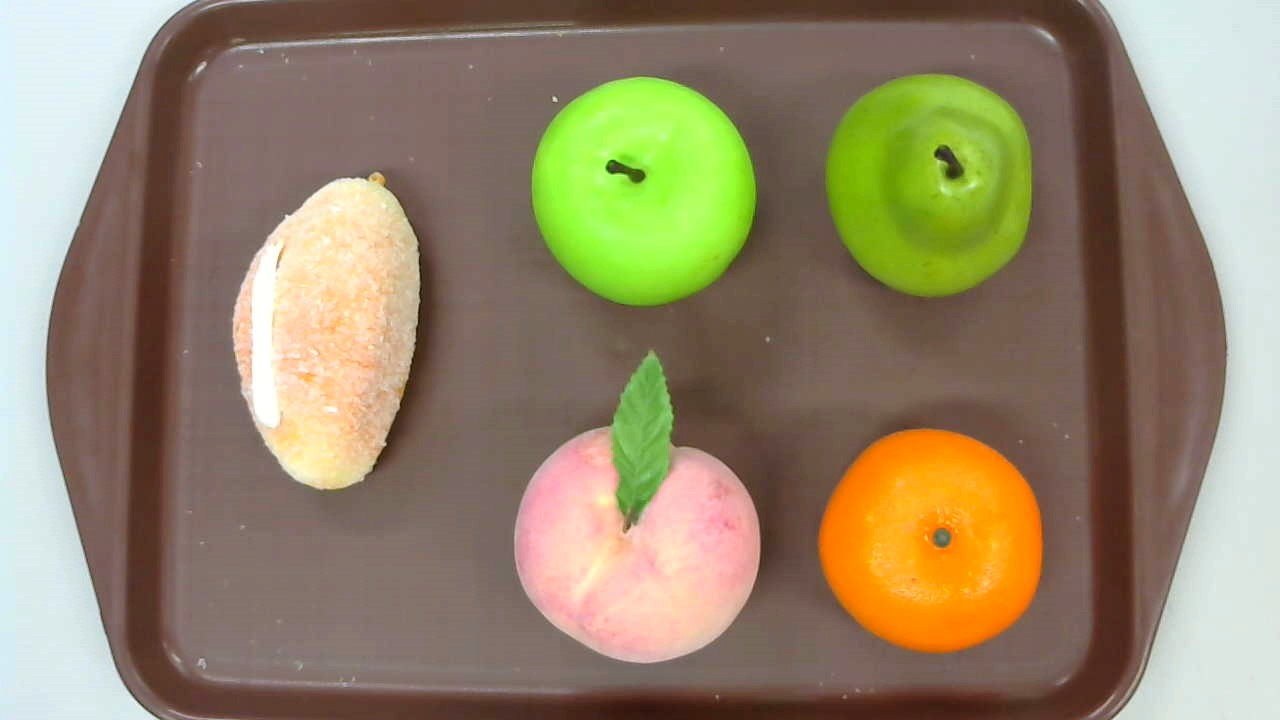coconut: (231, 172, 421, 490)
green apple: (531, 77, 756, 306)
green pear: (824, 74, 1032, 298)
orange: (818, 427, 1043, 654)
peach: (512, 349, 760, 665)
